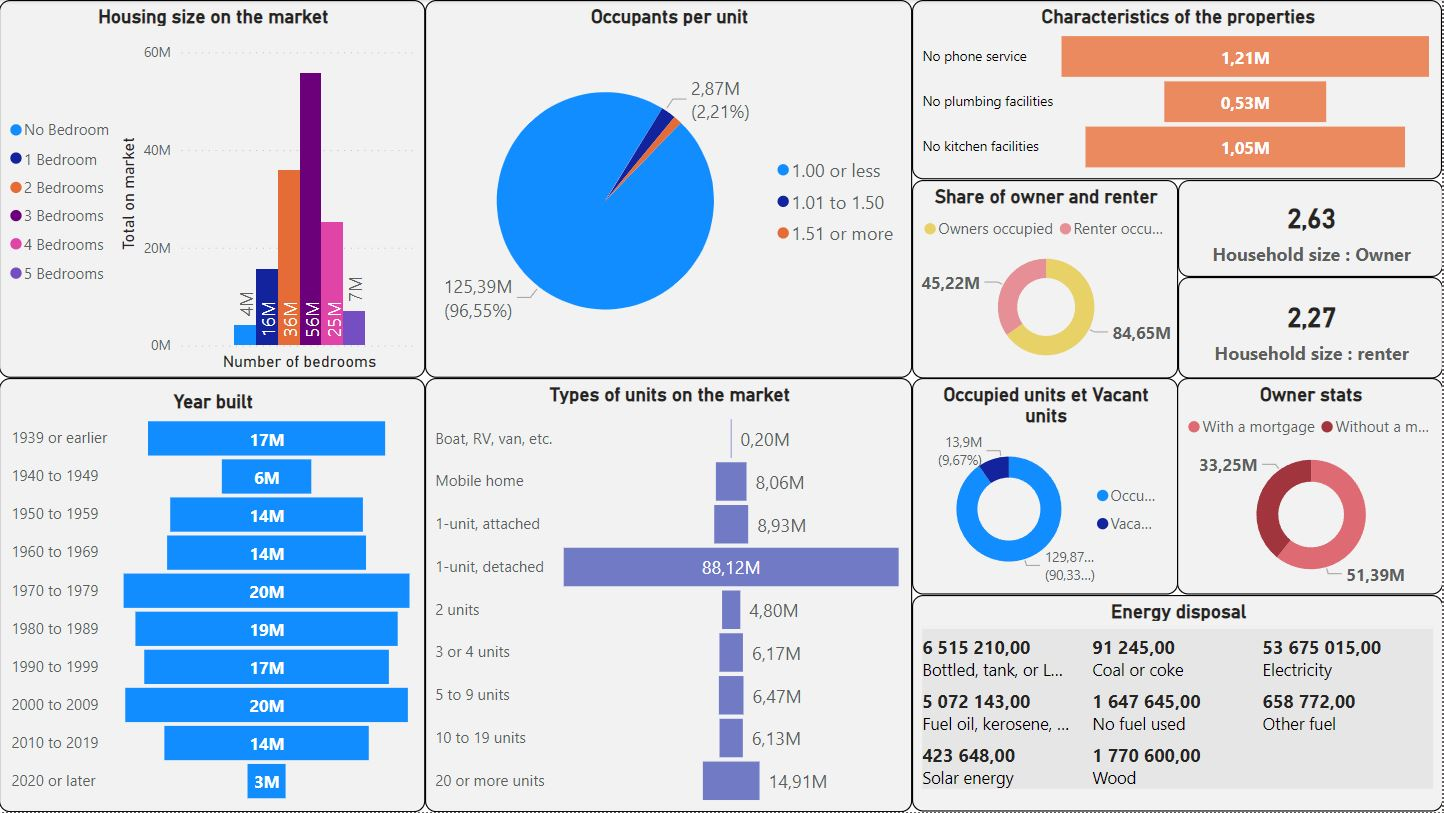

What the dashboard file says about the page in this screenshot:
{"tool":"powerbi","page":{"name":"Property statement","canvas":[1280,720],"ordinal":0},"visuals":[{"type":"clusteredColumnChart","title":"Housing size on the market","fields":{"Y":["Sum(Bedrooms.No bedroom)","Sum(Bedrooms.1 bedroom)","Sum(Bedrooms.2 bedrooms)","Sum(Bedrooms.3 bedrooms)","Sum(Bedrooms.4 bedrooms)","Sum(Bedrooms.5 or more bedrooms)"]},"box":[0,0,378.1,335.3],"z":0},{"type":"funnel","title":"Characteristics of the properties","fields":{"Y":["Sum(Characteristics.No telephone service available)","Sum(Characteristics.Lacking complete plumbing facilities)","Sum(Characteristics.Lacking complete kitchen facilities)"]},"box":[809.6,0,470.4,159.4],"z":1000},{"type":"donutChart","title":"Share of owner and renter ","fields":{"Y":["Sum(Housing tenure.Owner-occupied)","Sum(Housing tenure.Renter-occupied)"]},"box":[809.6,159.6,235.9,175.6],"z":2000},{"type":"multiRowCard","title":"Energy disposal","fields":{"Values":["Sum(Fuel.Bottled, tank, or LP gas)","Sum(Fuel.Coal or coke)","Sum(Fuel.Electricity)","Sum(Fuel.Fuel oil, kerosene, etc.)","Sum(Fuel.No fuel used)","Sum(Fuel.Other fuel)","Sum(Fuel.Solar energy)","Sum(Fuel.Wood)"]},"box":[809.6,527.6,470.8,192.4],"z":3000},{"type":"card","title":"Display of owner and renter ","fields":{"Values":["Min(Housing tenure.Average household size of owner-occupied unit)"]},"box":[1045.4,159.6,235,86],"z":4000},{"type":"card","title":"Display of owner and renter ","fields":{"Values":["Min(Housing tenure.Average household size of renter-occupied unit)"]},"box":[1045.4,245.6,235,89.6],"z":5000},{"type":"funnel","title":"Year built","fields":{"Y":["Sum(Years built.Built 1939 or earlier)","Sum(Years built.Built 1940 to 1949)","Sum(Years built.Built 1950 to 1959)","Sum(Years built.Built 1960 to 1969)","Sum(Years built.Built 1970 to 1979)","Sum(Years built.Built 1980 to 1989)","Sum(Years built.Built 1990 to 1999)","Sum(Years built.Built 2000 to 2009)","Sum(Years built.Built 2010 to 2019)","Sum(Years built.Built 2020 or later)"]},"box":[0,335,378,385],"z":7000},{"type":"pieChart","title":"Occupants per unit","fields":{"Y":["Sum(Occupants.1.00 or less)","Sum(Occupants.1.01 to 1.50)","Sum(Occupants.1.51 or more)"]},"box":[377.7,0,431.8,335.2],"z":7001},{"type":"funnel","title":"Types of units on the market","fields":{"Y":["Sum(Units.Boat, RV, van, etc.)","Sum(Units.Mobile home)","Sum(Units.1-unit, attached)","Sum(Units.1-unit, detached)","Sum(Units.2 units)","Sum(Units.3 or 4 units)","Sum(Units.5 to 9 units)","Sum(Units.10 to 19 units)","Sum(Units.20 or more units)"]},"box":[378,335,432,385],"z":7002},{"type":"donutChart","fields":{"Y":["Sum(Occupancy.Occupied housing units)","Sum(Occupancy.Vacant housing units)"]},"box":[809.6,335.2,235.9,192.4],"z":7003},{"type":"donutChart","title":"Owner stats","fields":{"Y":["Sum(Mortgage status.Housing units with a mortgage)","Sum(Mortgage status.Housing units without a mortgage)"]},"box":[1044.5,335.2,235.9,192.4],"z":7004}]}

Visuals, with their boxes in screenshot pixels (x1, y1, x2, y2), scaled from the page's 1280x720 canvas onto the 1444x813 screenshot:
"Housing size on the market" clusteredColumnChart: (0, 0, 427, 379)
"Characteristics of the properties" funnel: (913, 0, 1443, 180)
"Share of owner and renter " donutChart: (913, 180, 1179, 378)
"Energy disposal" multiRowCard: (913, 596, 1443, 812)
"Display of owner and renter " card: (1179, 180, 1443, 277)
"Display of owner and renter " card: (1179, 277, 1443, 378)
"Year built" funnel: (0, 378, 426, 812)
"Occupants per unit" pieChart: (426, 0, 913, 378)
"Types of units on the market" funnel: (426, 378, 914, 812)
donutChart - Sum(Occupancy.Occupied housing units) x Sum(Occupancy.Vacant housing units): (913, 378, 1179, 596)
"Owner stats" donutChart: (1178, 378, 1443, 596)
